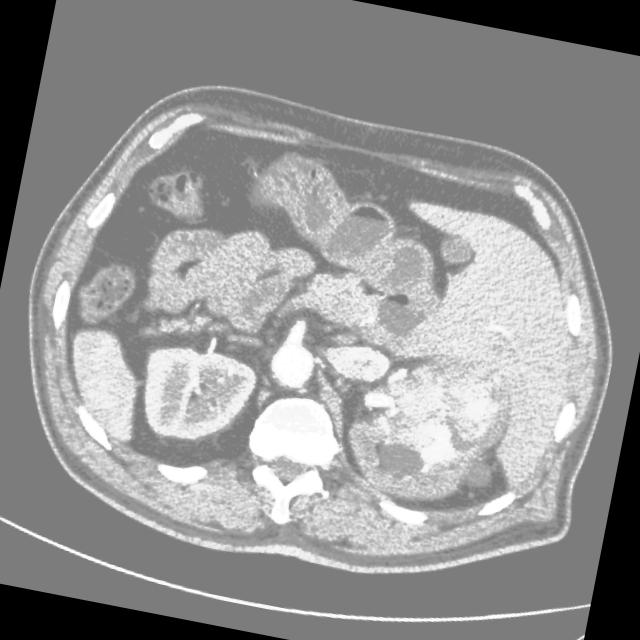TUMOR: (78, 257, 555, 557)
